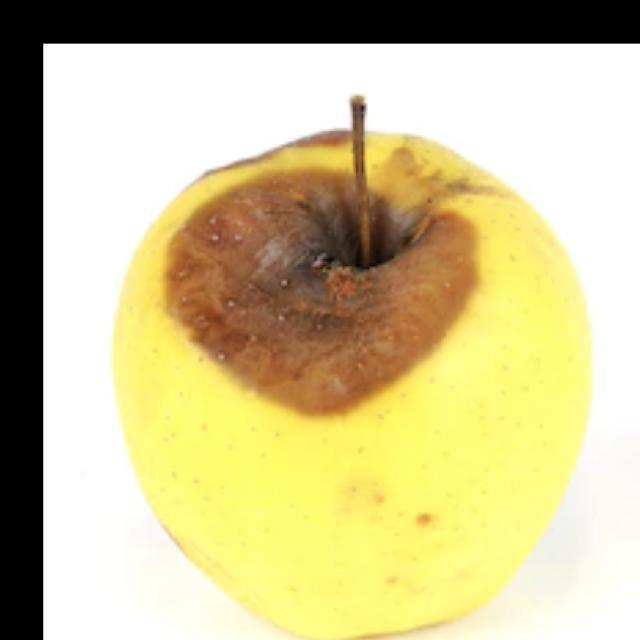Rotten: (107, 125, 595, 640)
